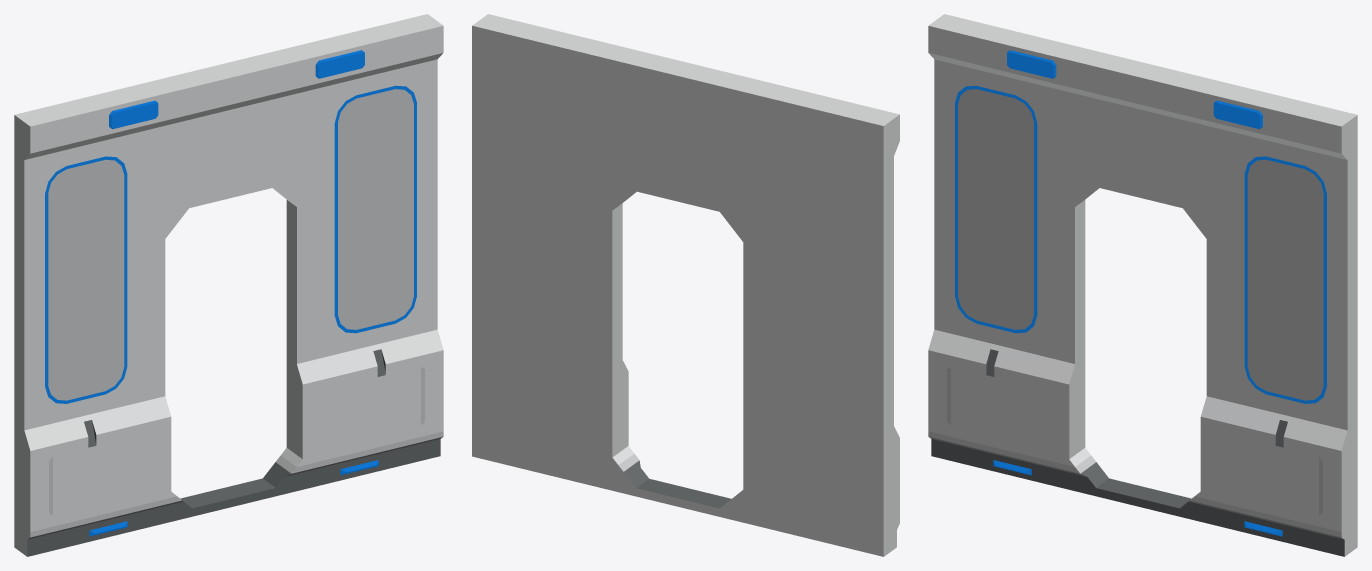
Rendered from Wall_type_A_053.glb.
3 renders of one model, left to right at view 1: azimuth 30°, elevation 25°; view 2: azimuth 150°, elevation 25°; view 3: azimuth 330°, elevation 25°, orthographic.
Parts seen in each view (by area): view 1: Wall_type_A_053; view 2: Wall_type_A_053; view 3: Wall_type_A_053.
Boxes of the visible parts, x1=… form: Wall_type_A_053: x1=14, y1=14, x2=443, y2=556; Wall_type_A_053: x1=472, y1=14, x2=899, y2=556; Wall_type_A_053: x1=928, y1=14, x2=1357, y2=556.
Size of the model in its own units: 4 by 4 by 0.2898.
2 materials, 2 textured.
